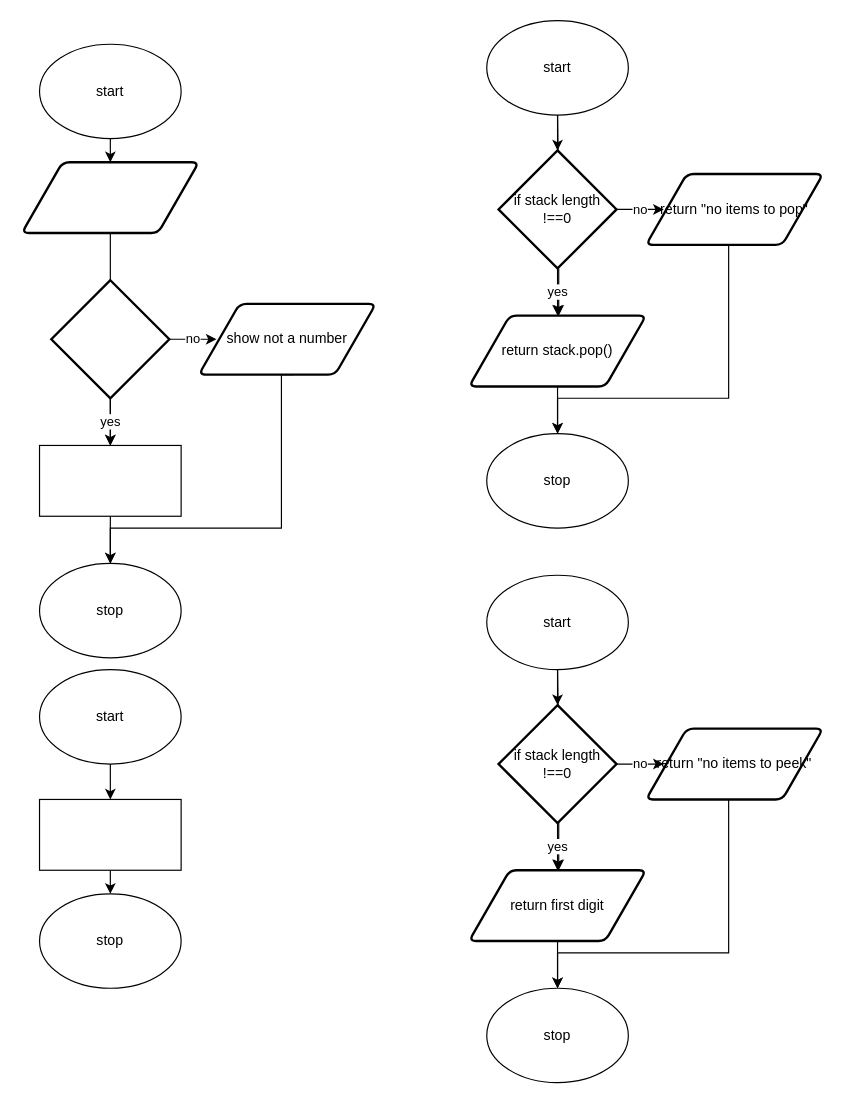
Image size: 844x1103. Some labels were removed from this diagram. Here are the shapes that lost their labels. From the top down, the centre of each, then its label:
the point at 109,197: get pushedNumber
the point at 110,338: if pushed number is NaN
the point at 109,480: this.stack.push(pushed number)
the point at 109,834: this.stack.size = 0
